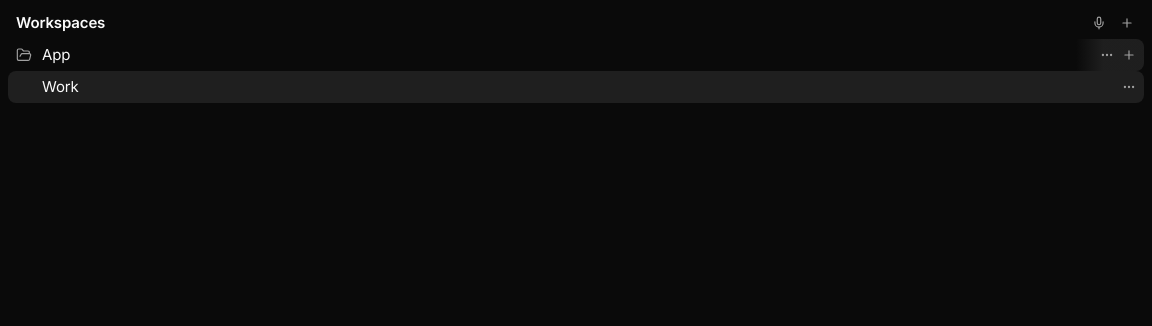
hides launchers the backend cannot offer
Click the button named "Project actions for App" at (1107, 55), box x1=1096 y1=44 x2=1118 y2=66
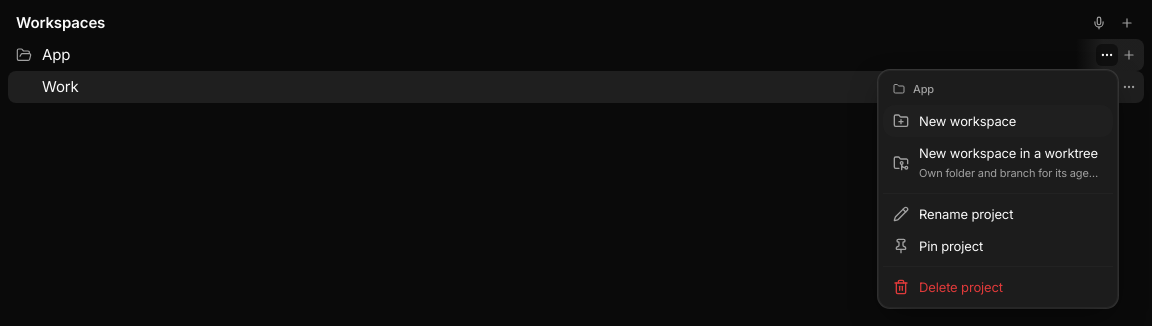
Expected: the menu item "New workspace" is shown, x1=883 y1=105 x2=1113 y2=137
